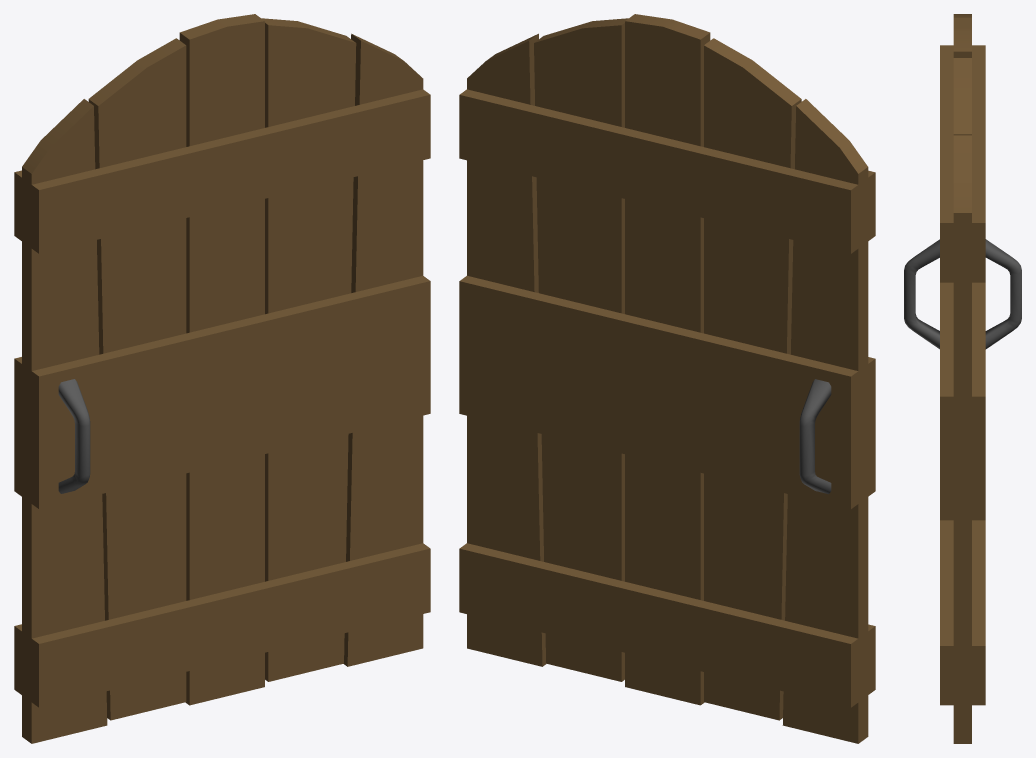
Rendered from WoodGate-bkn.FBX.
3 renders of one model, left to right at view 1: azimuth 30°, elevation 25°; view 2: azimuth 150°, elevation 25°; view 3: azimuth 270°, elevation 25°, orthographic. The views are drawn at different scales.
Parts seen in each view (by area): view 1: WoodDoor_Part_6, WoodDoor_Part_4, WoodDoor_Part_8, WoodDoor_Part_3, WoodDoor_Part_2, WoodDoor_Part_7, WoodDoor_Part_5, WoodDoor_Part_9, WoodDoor_Part_1, WoodDoor_Part_10, Object001; view 2: WoodDoor_Part_6, WoodDoor_Part_4, WoodDoor_Part_8, WoodDoor_Part_3, WoodDoor_Part_2, WoodDoor_Part_7, WoodDoor_Part_1, WoodDoor_Part_10, WoodDoor_Part_5, WoodDoor_Part_9, Handle; view 3: WoodDoor_Part_2, WoodDoor_Part_3, WoodDoor_Part_9, WoodDoor_Part_4, WoodDoor_Part_6, Handle, Object001, WoodDoor_Part_1, WoodDoor_Part_8, WoodDoor_Part_5.
Part boxes in pixels (x1,y1,x2,y2): WoodDoor_Part_6: [14, 23, 222, 314]; WoodDoor_Part_4: [198, 53, 430, 373]; WoodDoor_Part_8: [14, 519, 211, 743]; WoodDoor_Part_3: [253, 282, 430, 514]; WoodDoor_Part_2: [207, 14, 430, 257]; WoodDoor_Part_7: [103, 372, 309, 588]; WoodDoor_Part_5: [22, 294, 225, 442]; WoodDoor_Part_9: [320, 454, 430, 666]; WoodDoor_Part_1: [196, 510, 332, 700]; WoodDoor_Part_10: [14, 357, 160, 565]; Object001: [58, 379, 90, 493]; WoodDoor_Part_6: [668, 23, 875, 314]; WoodDoor_Part_4: [467, 56, 692, 372]; WoodDoor_Part_8: [678, 518, 875, 743]; WoodDoor_Part_3: [459, 274, 641, 514]; WoodDoor_Part_2: [459, 14, 681, 260]; WoodDoor_Part_7: [583, 372, 782, 584]; WoodDoor_Part_1: [549, 508, 694, 700]; WoodDoor_Part_10: [717, 367, 875, 564]; WoodDoor_Part_5: [666, 294, 875, 427]; WoodDoor_Part_9: [459, 456, 565, 666]; Handle: [799, 379, 831, 494]; WoodDoor_Part_2: [940, 27, 985, 383]; WoodDoor_Part_3: [940, 392, 985, 564]; WoodDoor_Part_9: [940, 563, 985, 743]; WoodDoor_Part_4: [940, 128, 985, 397]; WoodDoor_Part_6: [940, 14, 985, 128]; Handle: [985, 239, 1021, 349]; Object001: [904, 239, 939, 349]; WoodDoor_Part_1: [940, 543, 985, 603]; WoodDoor_Part_8: [940, 520, 985, 543]; WoodDoor_Part_5: [940, 282, 985, 296].
Bounding box in the file's own units: 101 × 165 × 28.3.
